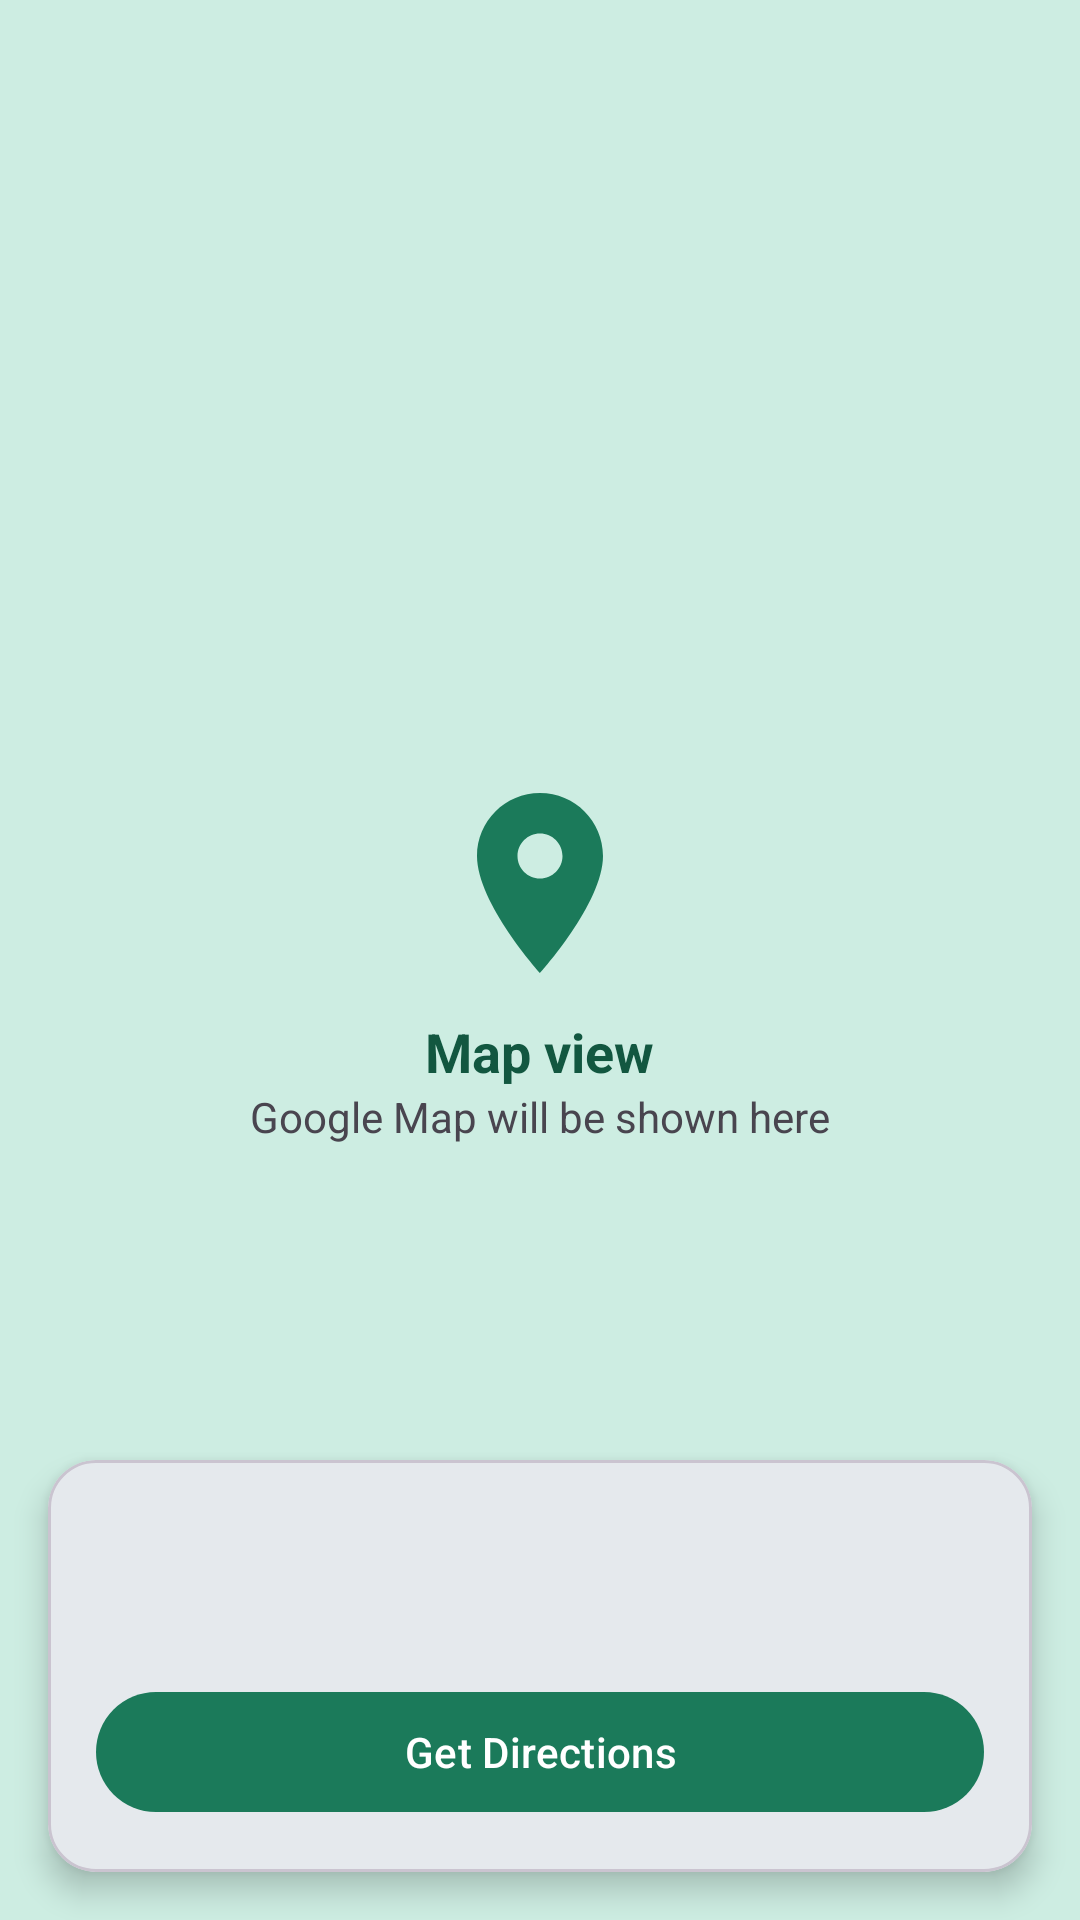

Icon click points for this 1080px×1920px phone screenshot, format point (x, y):
Map pin: point (540, 883)
